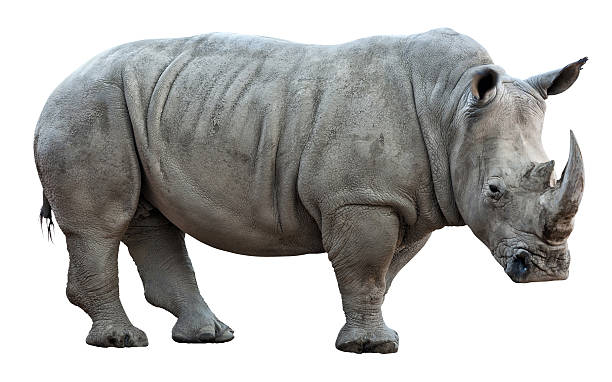rhino: (434, 40, 612, 312)
